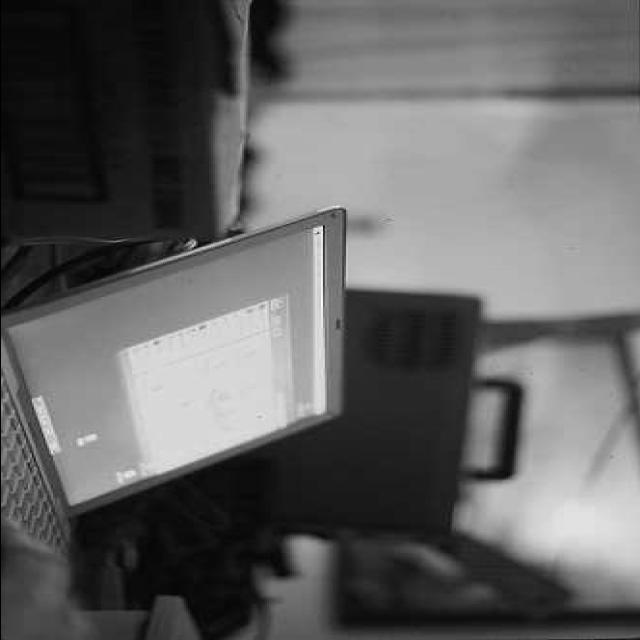laptop: (3, 215, 347, 538)
